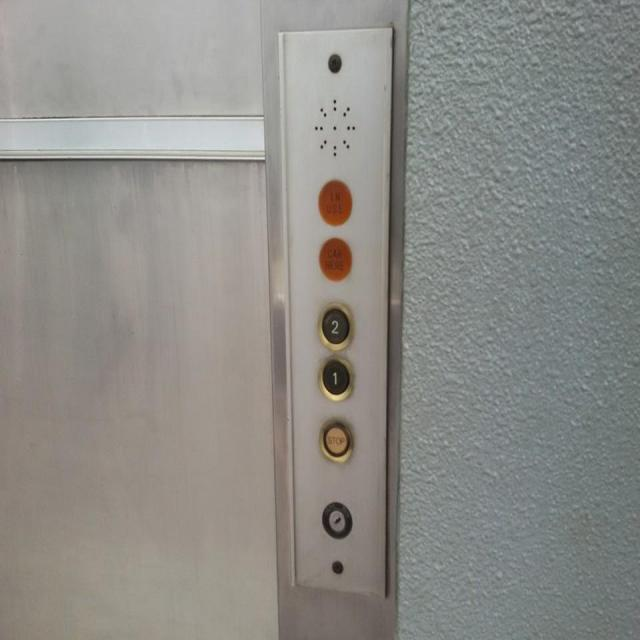1: (316, 353, 354, 405)
2: (316, 300, 355, 351)
keyhole: (319, 494, 353, 542)
text_car here: (317, 234, 351, 282)
text_in use: (317, 177, 351, 226)
text_stop: (316, 415, 355, 466)
